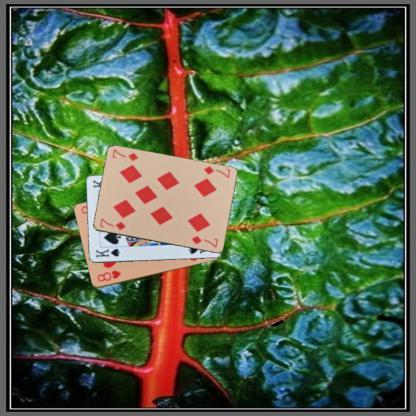7d: (97, 215, 127, 232), (201, 164, 231, 180)
8h: (94, 268, 122, 283)
Ks: (92, 246, 121, 259)
